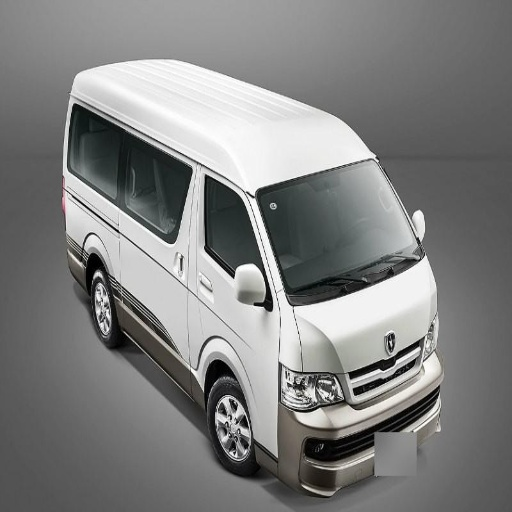front_bumper: (253, 375, 439, 497)
front_right_door: (145, 167, 279, 393)
front_right_light: (282, 370, 342, 411)
hood: (293, 260, 430, 405)
